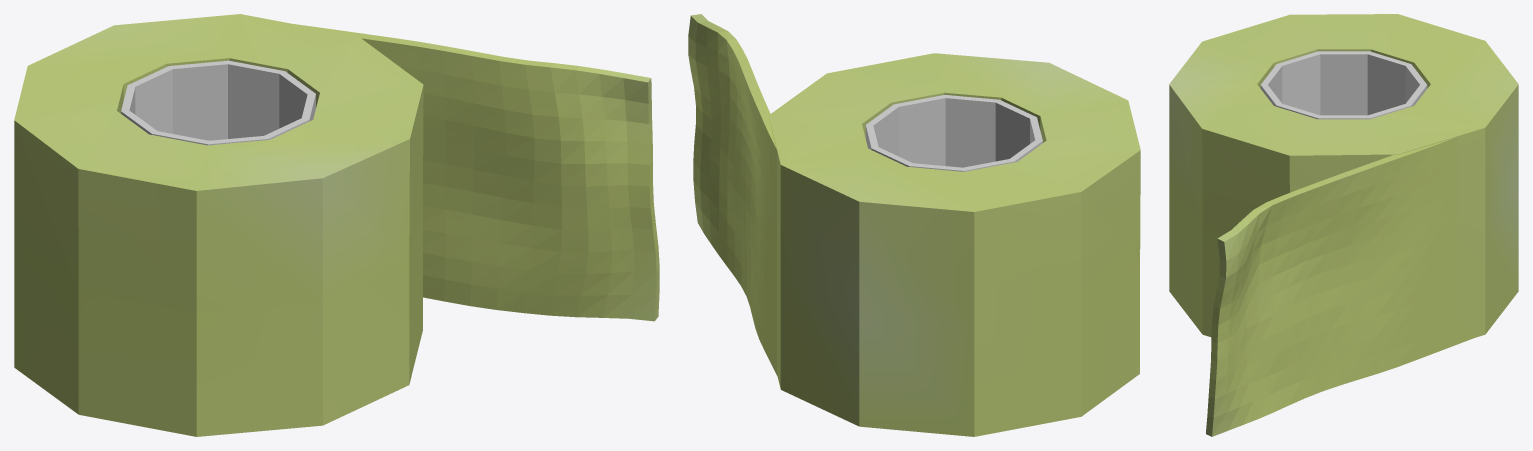
Rendered from Scotch.fbx.
3 views of the same model, side by side, from view 1: azimuth 30°, elevation 25°; view 2: azimuth 150°, elevation 25°; view 3: azimuth 270°, elevation 25° (orthographic). The views are drawn at different scales.
Parts seen in each view (by area): view 1: Cylindre 1, Boîte, Cylindre; view 2: Cylindre 1, Boîte, Cylindre; view 3: Cylindre 1, Boîte, Cylindre.
Part boxes in pixels (left/top/right/bottom): Cylindre 1: left=14, top=14, right=423, bottom=436; Boîte: left=294, top=24, right=659, bottom=321; Cylindre: left=121, top=60, right=315, bottom=145; Cylindre 1: left=768, top=53, right=1140, bottom=436; Boîte: left=688, top=14, right=777, bottom=375; Cylindre: left=865, top=95, right=1042, bottom=171; Cylindre 1: left=1169, top=14, right=1518, bottom=342; Boîte: left=1206, top=137, right=1472, bottom=436; Cylindre: left=1260, top=51, right=1427, bottom=119.
Size of the model in its own units: 0.773 by 0.344 by 0.521.
